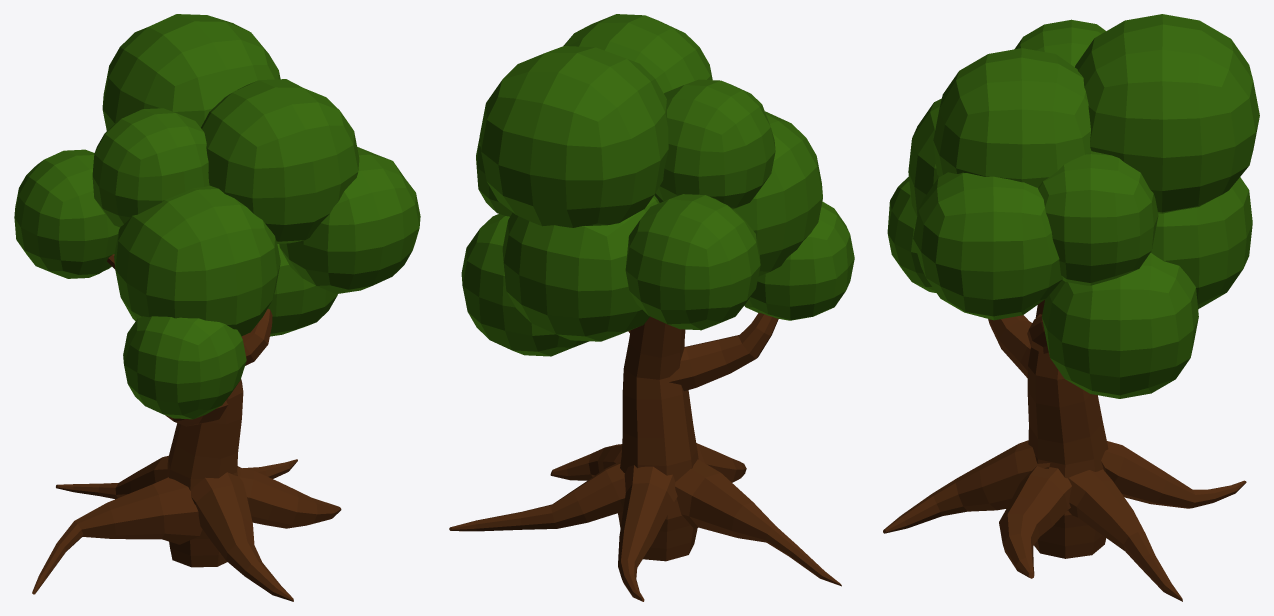
File: Tree 1 LOD 0.fbx
3 renders of one model, left to right at view 1: azimuth 30°, elevation 25°; view 2: azimuth 150°, elevation 25°; view 3: azimuth 270°, elevation 25°, orthographic. The views are drawn at different scales.
Visible parts, largest first — view 1: Leaves, Trunk; view 2: Leaves, Trunk; view 3: Leaves, Trunk.
Part boxes in pixels (<box>): Leaves: <box>14,14,420,419</box>; Trunk: <box>32,254,341,601</box>; Leaves: <box>461,14,854,356</box>; Trunk: <box>449,313,841,601</box>; Leaves: <box>887,14,1259,398</box>; Trunk: <box>883,300,1246,601</box>.
Bounding box in the file's own units: 3600 × 4938 × 3139.
